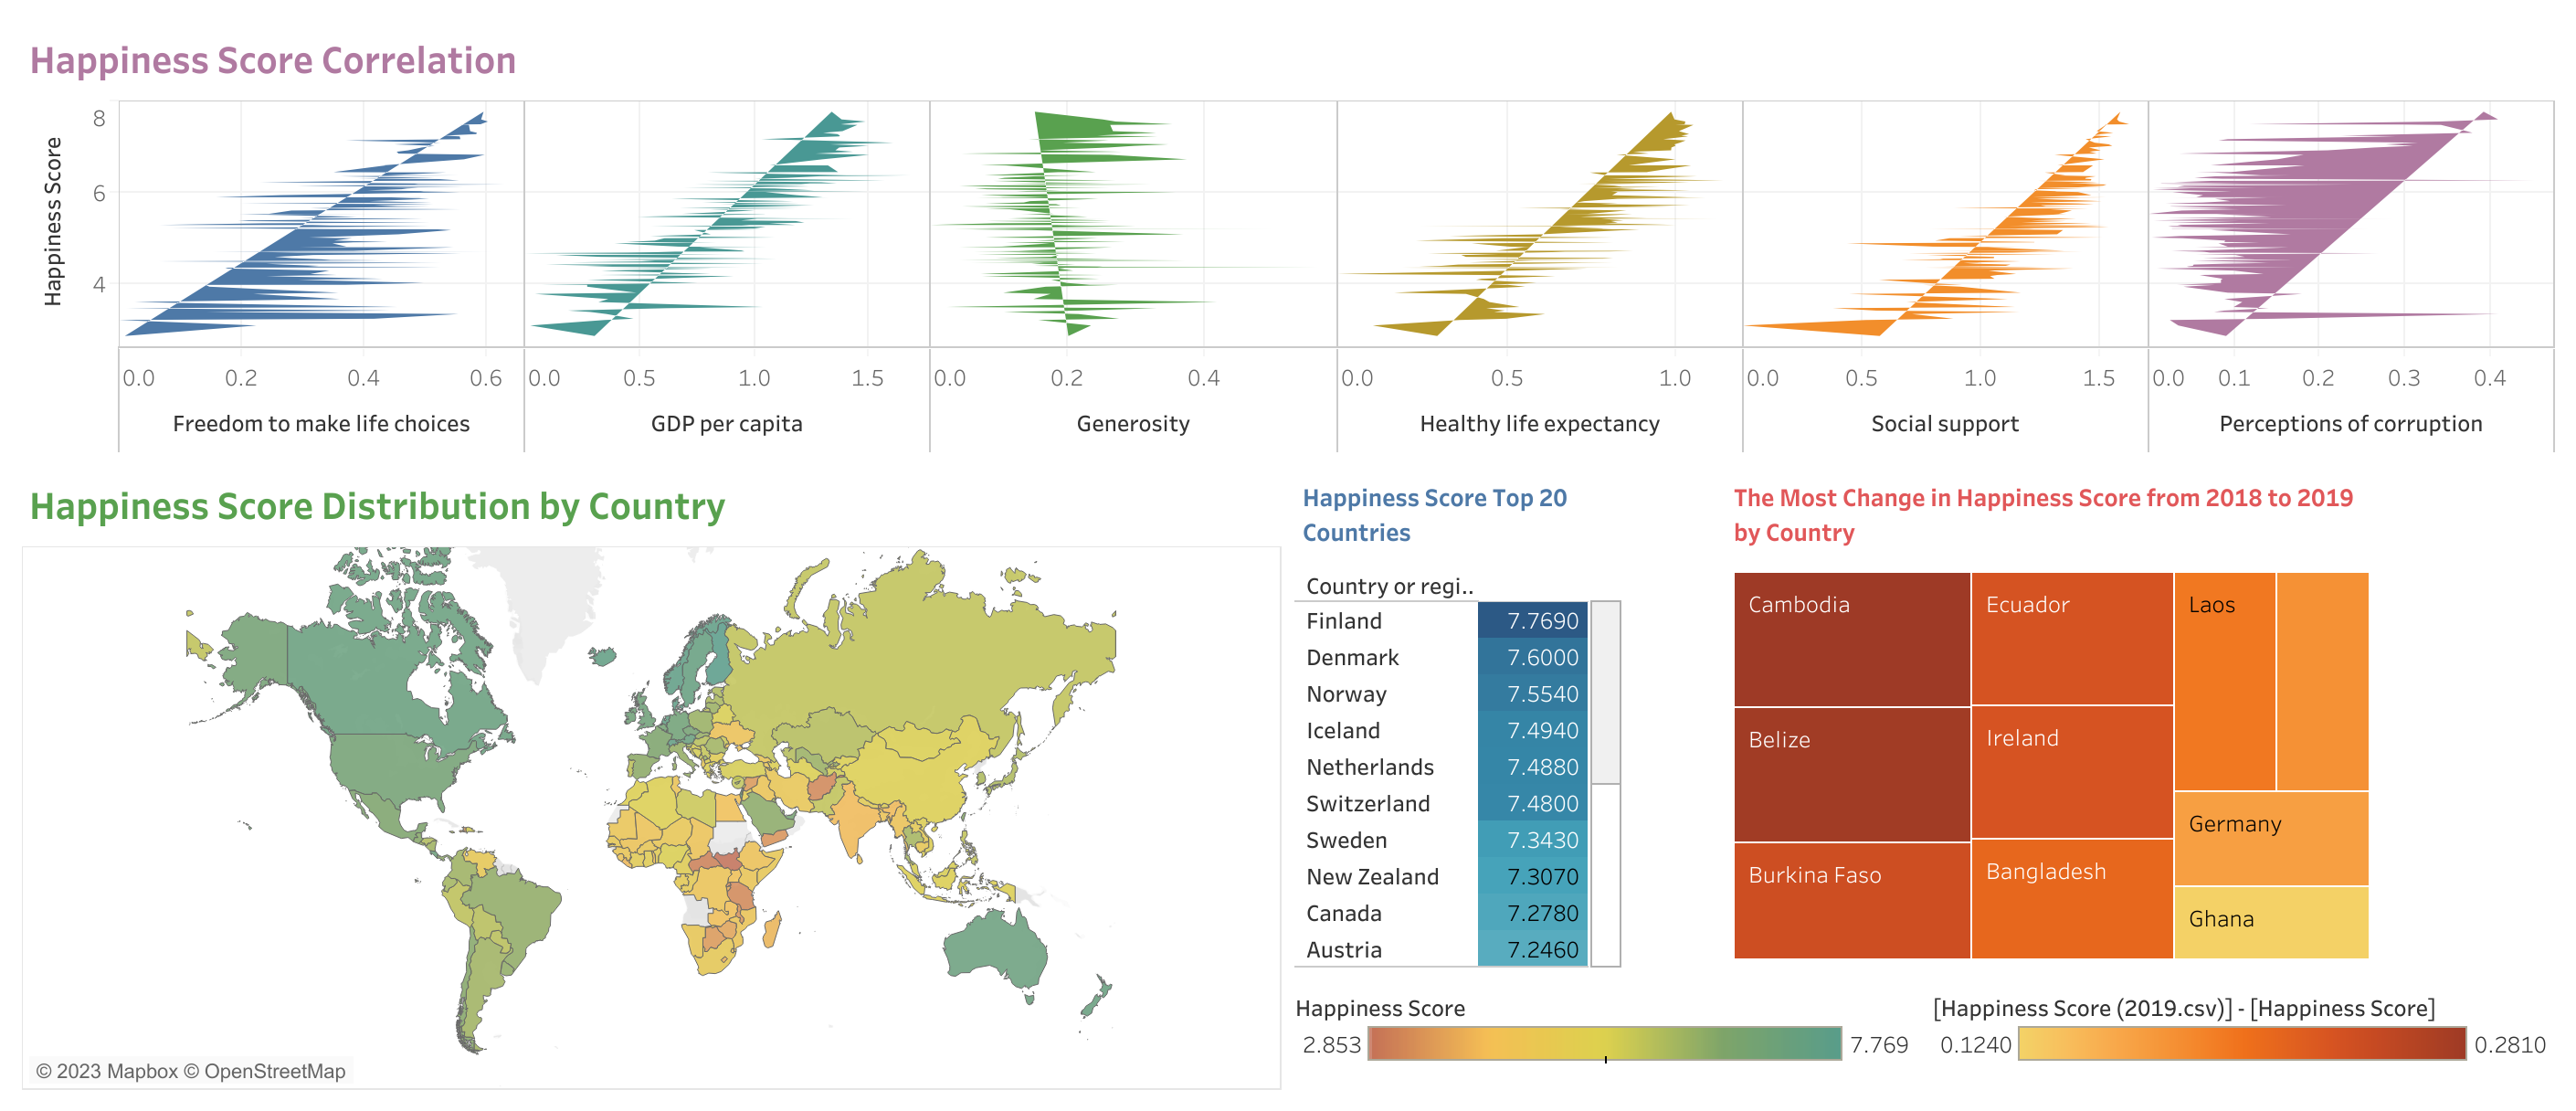

The dashboard page shown, as its layout file describes it:
{"tool":"tableau","page":{"name":"World Happiness Report","canvas":[1000,1000],"units":"permille","ordinal":0},"visuals":[{"type":"worksheet","title":"Correlation 2","mark":"Polygon","rows":["Score"],"cols":["Freedom to make life choices","GDP per capita","Generosity","Healthy life expectancy","Social support","Perceptions of corruption"],"box":[6.3,11.5,987.4,401.2]},{"type":"worksheet","title":"Map","mark":"Automatic","box":[6.3,412.7,493.7,575.8]},{"type":"worksheet","title":"Top20","mark":"Square","rows":["Country or region"],"box":[500,412.7,166.6,466.1]},{"type":"worksheet","title":"Change","mark":"Automatic","box":[666.6,412.7,327.1,466.1]},{"type":"legend","title":"Map","param":"[federated.1dy0ily0kw62c318tasss13p1zvu].[sum:Score:qk]","box":[500,878.8,246.8,109.7]},{"type":"legend","title":"Change","param":"[federated.19eeqmc0loqccr1ce3wer038snmx].[sum:Calculation_5988380153325838348:qk","box":[746.8,878.8,246.9,109.7]}]}

Visuals, with their boxes on the dashboard's canvas, which has no fixed pixel size, in thousandths of its width and height (x1, y1, x2, y2). These are canvas units, not pixel positions in the 2576x1111 screenshot, which may show the page scaled, cropped or inside an application window:
"Correlation 2" worksheet (Polygon marks): box=[6, 12, 994, 413]
"Map" worksheet: box=[6, 413, 500, 988]
"Top20" worksheet (Square marks): box=[500, 413, 667, 879]
"Change" worksheet: box=[667, 413, 994, 879]
"Map" legend: box=[500, 879, 747, 988]
"Change" legend: box=[747, 879, 994, 988]
